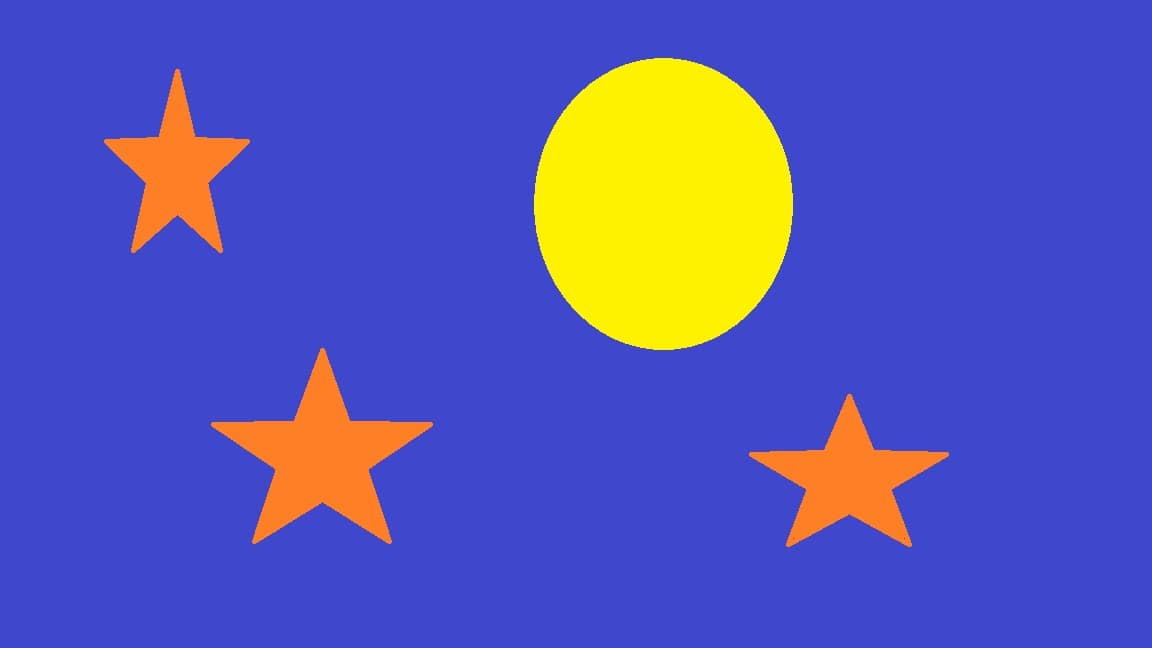Oval: (531, 56, 795, 347)
Star: (212, 344, 435, 544), (751, 395, 948, 551), (105, 67, 255, 259)
